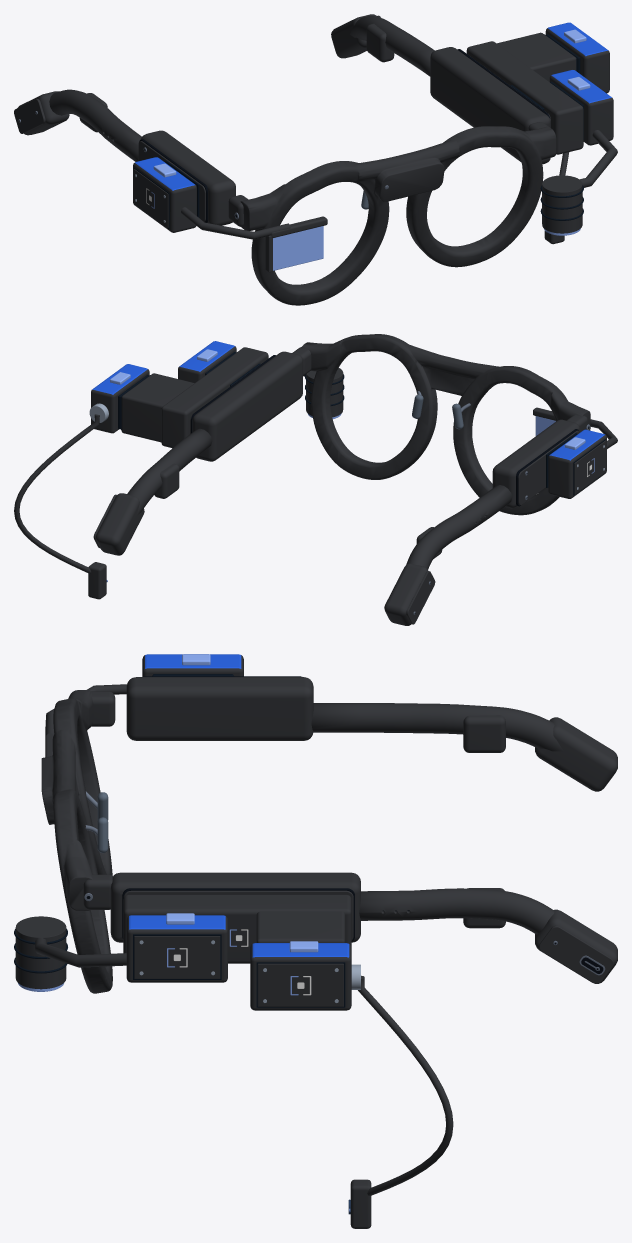
Rendered from labs-configuraciones.glb.
3 views of the same model, one above another, from view 1: azimuth 30°, elevation 25°; view 2: azimuth 150°, elevation 25°; view 3: azimuth 270°, elevation 25° (orthographic). The views are drawn at different scales.
Parts seen in each view (by area): view 1: laboratorio-portatil · Frente continuo con aros biselados, p, laboratorio-portatil · Carcasa principal derecha, laboratorio-portatil · Estructura del adaptador, laboratorio-portatil · Carcasa principal izquierda, laboratorio-portatil · Patilla curva izquierda, laboratorio-portatil · Microscopía barril de enfoque, laboratorio-portatil · Microscopía cuerpo, laboratorio-portatil · Pantalla carcasa común, laboratorio-portatil · Puente escalonado del puerto posterio, laboratorio-portatil · Sonda de inspección cuerpo, laboratorio-portatil · Patilla curva derecha, laboratorio-portatil · Pantalla lámina óptica ilustrativa (+10 smaller); view 2: laboratorio-portatil · Frente continuo con aros biselados, p, laboratorio-portatil · Carcasa principal derecha, laboratorio-portatil · Estructura del adaptador, laboratorio-portatil · Puente escalonado del puerto posterio, laboratorio-portatil · Patilla curva izquierda, laboratorio-portatil · Carcasa principal izquierda, laboratorio-portatil · Patilla curva derecha, laboratorio-portatil · Punta portabatería derecha, laboratorio-portatil · Pantalla carcasa común, laboratorio-portatil · Sonda de inspección cuerpo, laboratorio-portatil · Punta portabatería izquierda, laboratorio-portatil · Sonda de inspección cable flexible (+7 smaller); view 3: laboratorio-portatil · Carcasa principal izquierda, laboratorio-portatil · Frente continuo con aros biselados, p, laboratorio-portatil · Patilla curva izquierda, laboratorio-portatil · Estructura del adaptador, laboratorio-portatil · Patilla curva derecha, laboratorio-portatil · Carcasa principal derecha, laboratorio-portatil · Sonda de inspección tapa, laboratorio-portatil · Microscopía tapa, laboratorio-portatil · Punta portabatería izquierda, laboratorio-portatil · Microscopía barril de enfoque, laboratorio-portatil · Puente escalonado del puerto posterio, laboratorio-portatil · Sonda de inspección cuerpo (+12 smaller).
Part boxes in pixels (<box>): laboratorio-portatil · Frente continuo con aros biselados, p: <box>240,126,556,305</box>; laboratorio-portatil · Carcasa principal derecha: <box>430,47,550,164</box>; laboratorio-portatil · Estructura del adaptador: <box>466,41,583,154</box>; laboratorio-portatil · Carcasa principal izquierda: <box>141,130,235,225</box>; laboratorio-portatil · Patilla curva izquierda: <box>49,89,141,161</box>; laboratorio-portatil · Microscopía barril de enfoque: <box>542,175,582,233</box>; laboratorio-portatil · Microscopía cuerpo: <box>549,70,613,145</box>; laboratorio-portatil · Pantalla carcasa común: <box>133,157,196,232</box>; laboratorio-portatil · Puente escalonado del puerto posterio: <box>497,32,576,81</box>; laboratorio-portatil · Sonda de inspección cuerpo: <box>545,22,609,93</box>; laboratorio-portatil · Patilla curva derecha: <box>350,16,434,76</box>; laboratorio-portatil · Pantalla lámina óptica ilustrativa: <box>273,226,323,270</box>; laboratorio-portatil · Frente continuo con aros biselados, p: <box>301,334,590,515</box>; laboratorio-portatil · Carcasa principal derecha: <box>192,351,302,461</box>; laboratorio-portatil · Estructura del adaptador: <box>161,347,268,448</box>; laboratorio-portatil · Puente escalonado del puerto posterio: <box>121,373,194,442</box>; laboratorio-portatil · Patilla curva izquierda: <box>406,485,512,569</box>; laboratorio-portatil · Carcasa principal izquierda: <box>492,419,579,508</box>; laboratorio-portatil · Patilla curva derecha: <box>127,428,212,515</box>; laboratorio-portatil · Punta portabatería derecha: <box>96,493,144,555</box>; laboratorio-portatil · Pantalla carcasa común: <box>548,429,606,498</box>; laboratorio-portatil · Sonda de inspección cuerpo: <box>91,364,149,433</box>; laboratorio-portatil · Punta portabatería izquierda: <box>384,563,428,625</box>; laboratorio-portatil · Sonda de inspección cable flexible: <box>14,414,99,573</box>; laboratorio-portatil · Carcasa principal izquierda: <box>126,677,313,740</box>; laboratorio-portatil · Frente continuo con aros biselados, p: <box>41,690,112,993</box>; laboratorio-portatil · Patilla curva izquierda: <box>311,703,563,751</box>; laboratorio-portatil · Estructura del adaptador: <box>123,894,351,963</box>; laboratorio-portatil · Patilla curva derecha: <box>359,888,554,934</box>; laboratorio-portatil · Carcasa principal derecha: <box>110,872,360,942</box>; laboratorio-portatil · Sonda de inspección tapa: <box>257,963,343,1006</box>; laboratorio-portatil · Microscopía tapa: <box>134,936,220,978</box>; laboratorio-portatil · Punta portabatería izquierda: <box>535,717,617,791</box>; laboratorio-portatil · Microscopía barril de enfoque: <box>15,916,66,989</box>; laboratorio-portatil · Puente escalonado del puerto posterio: <box>256,911,345,942</box>; laboratorio-portatil · Sonda de inspección cuerpo: <box>250,943,351,1010</box>.
Size of the model in its own units: 0.2404 by 0.1073 by 0.1906.
12 materials, 1 textured.
